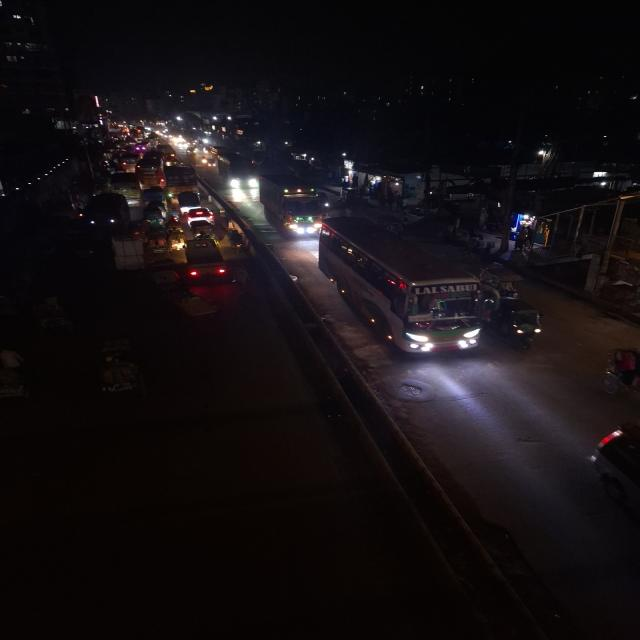bus: (314, 214, 488, 356), (137, 152, 162, 184)
car: (180, 236, 232, 286), (74, 192, 132, 232), (177, 190, 217, 222), (184, 206, 217, 223)
cng: (495, 298, 551, 350), (141, 200, 167, 227)
rickshaw: (90, 343, 152, 403), (598, 344, 640, 420), (26, 295, 80, 341), (0, 344, 33, 409), (479, 264, 524, 298)
truck: (254, 172, 328, 236), (160, 162, 202, 195), (219, 154, 255, 191)
